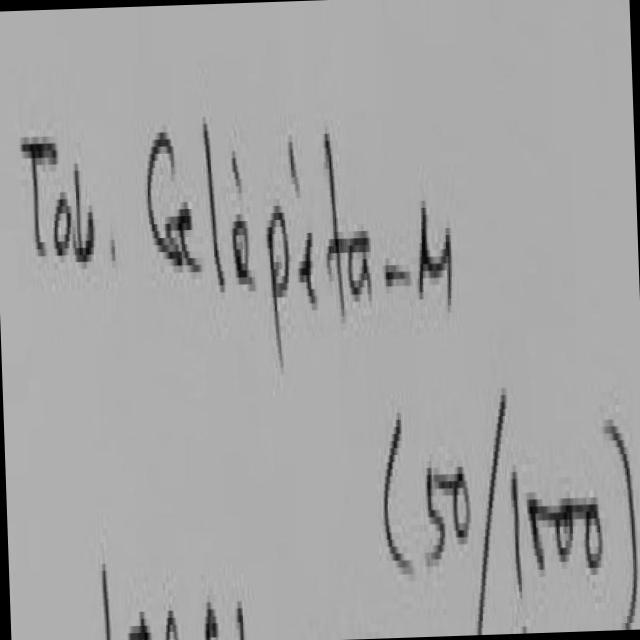G: (147, 132, 198, 268)
T: (21, 137, 56, 245)
a: (53, 192, 68, 252)
b: (72, 163, 94, 277)
l: (205, 116, 223, 288), (232, 221, 253, 280)
t: (53, 192, 70, 252)
